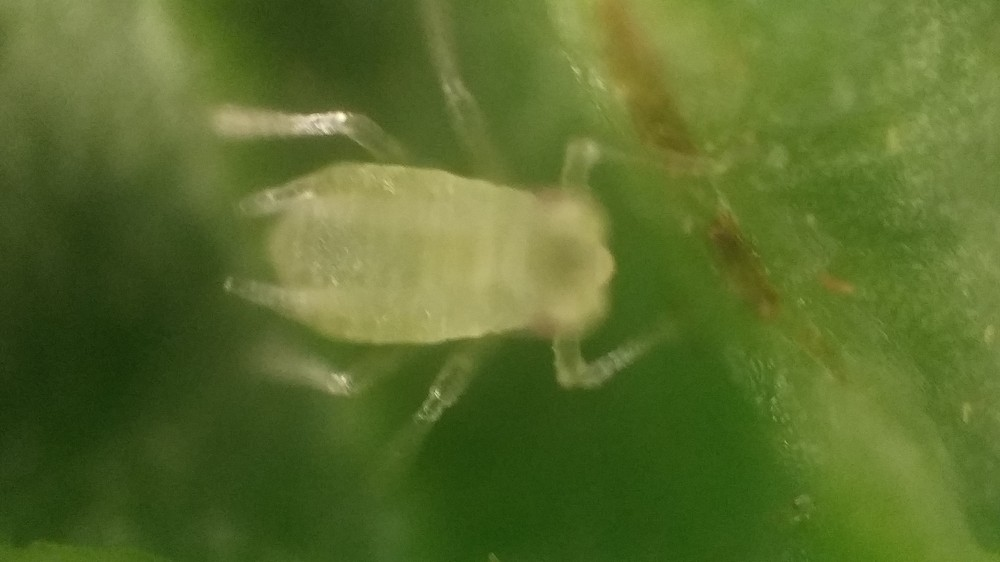Pulgon: (187, 39, 749, 498)
